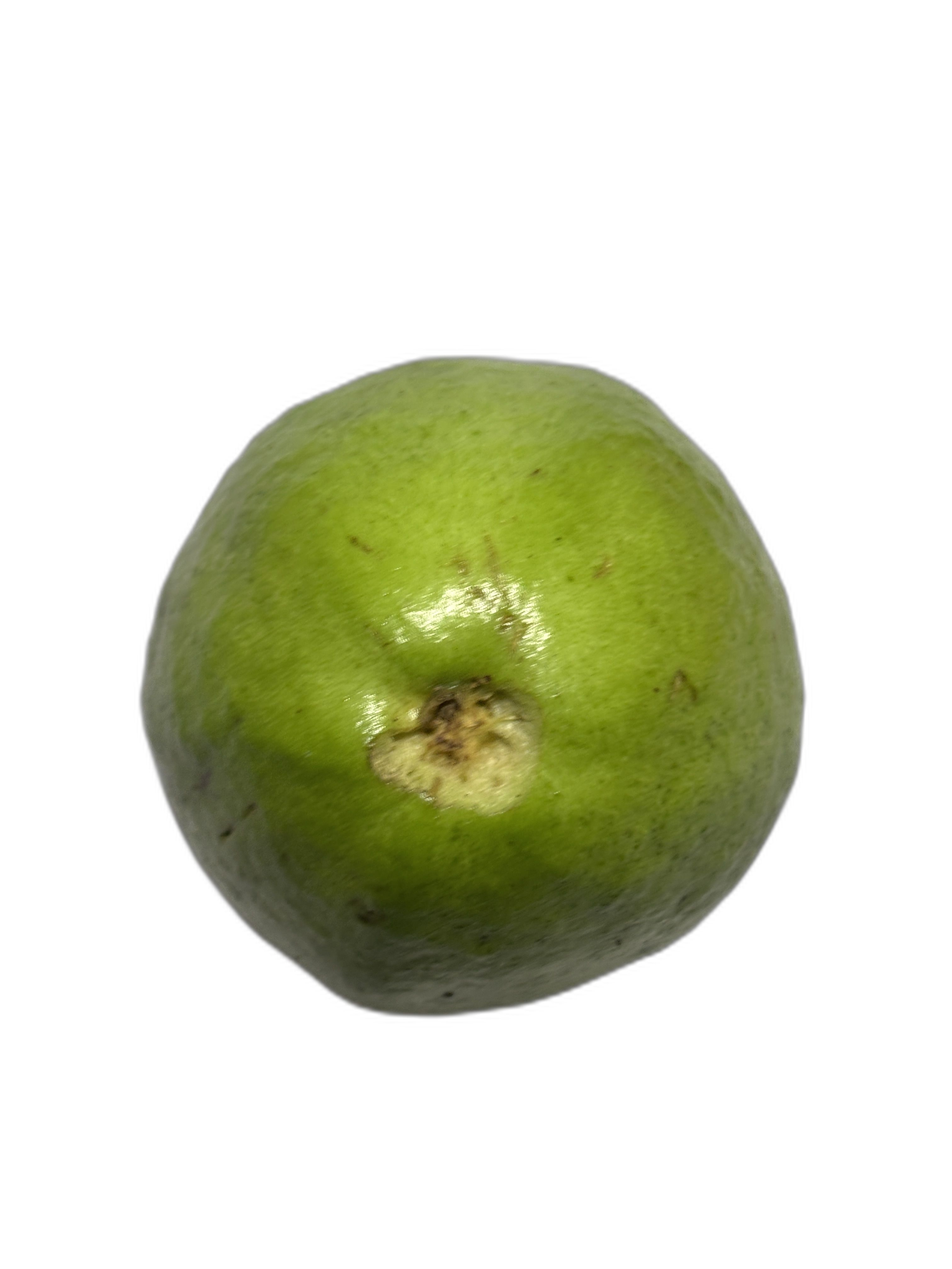guava: (7, 172, 837, 1131)
